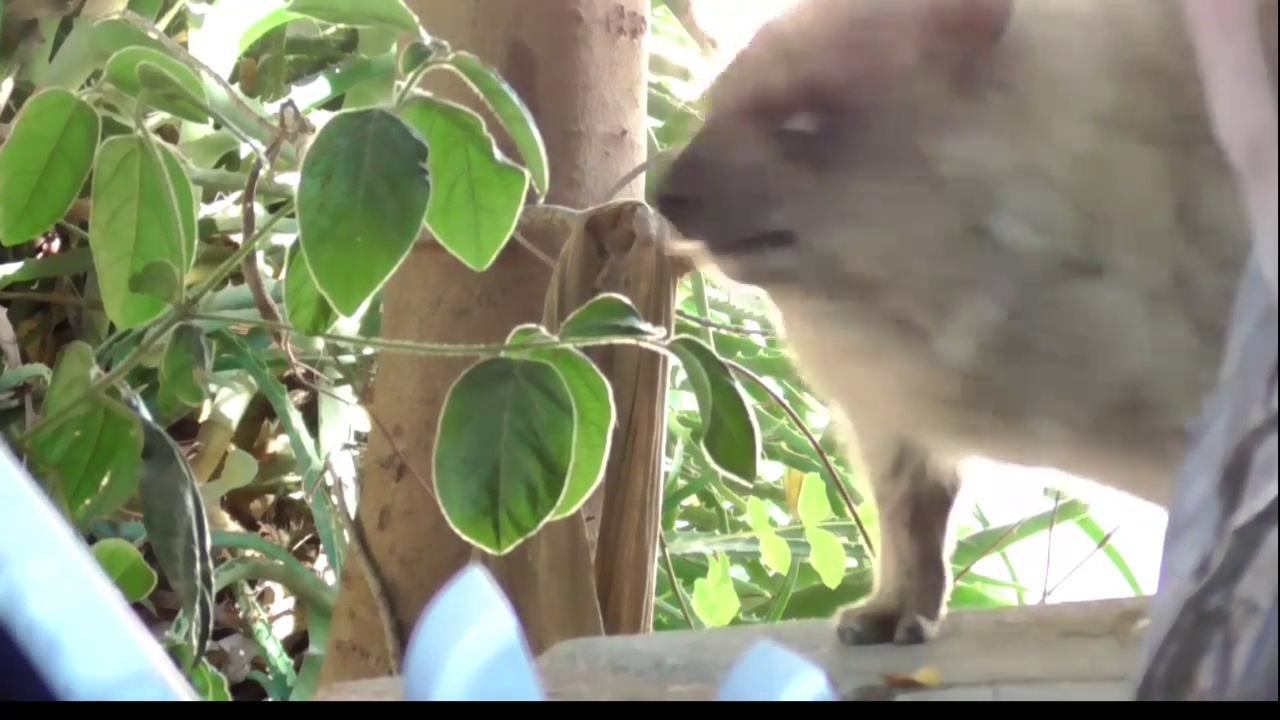Rock Hyrex: (651, 1, 1256, 649)
